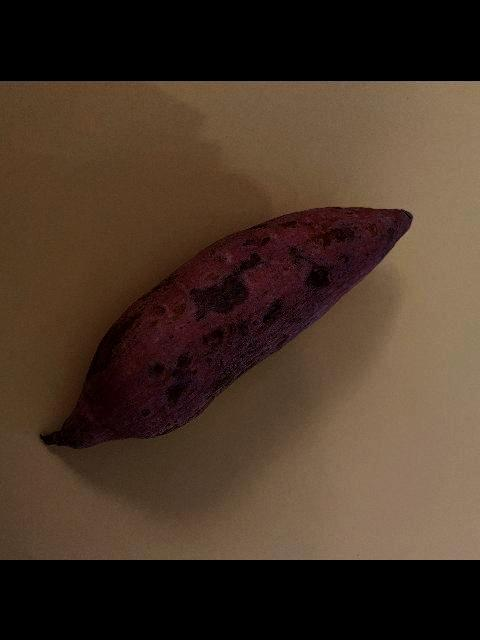sweetpotato: (38, 204, 416, 448)
